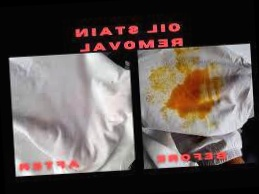oil: (149, 61, 231, 130), (143, 49, 201, 104)
